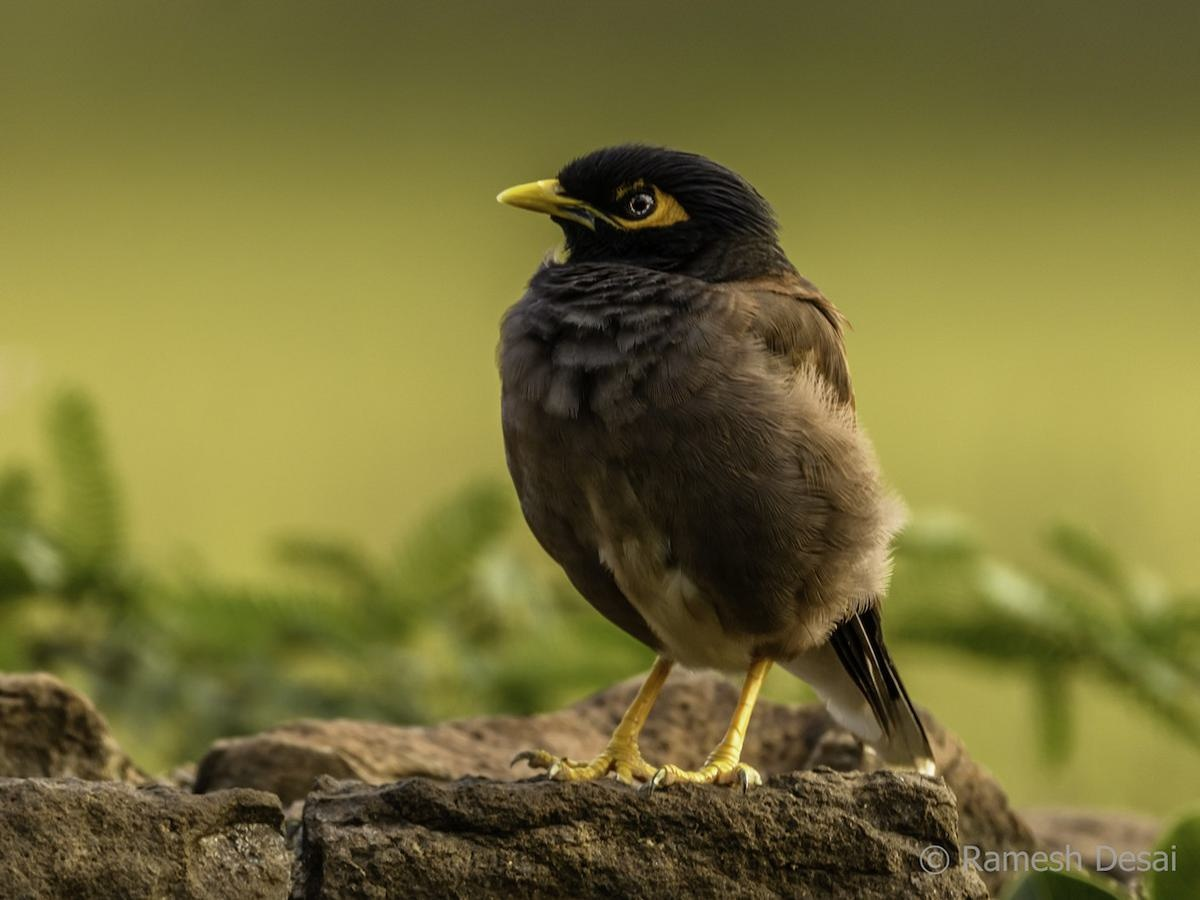myna: (466, 117, 1007, 830)
